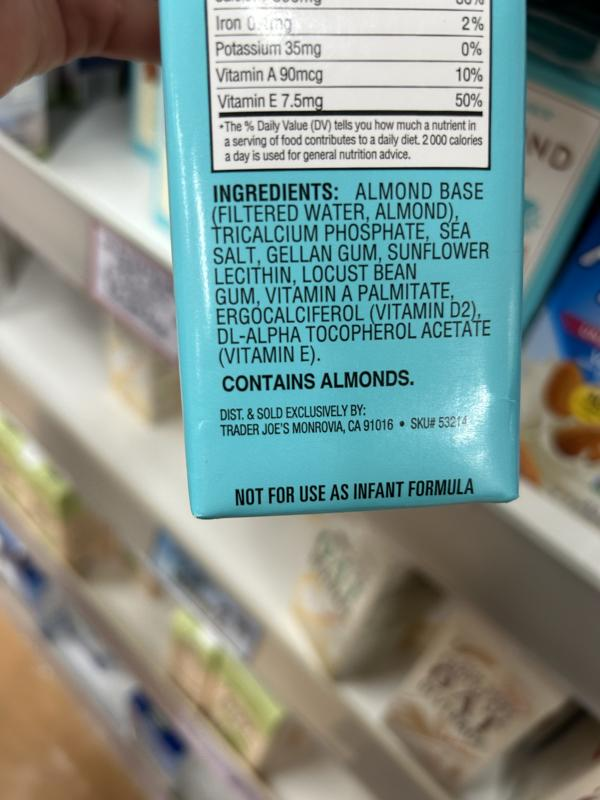ingredients: (209, 178, 497, 367)
